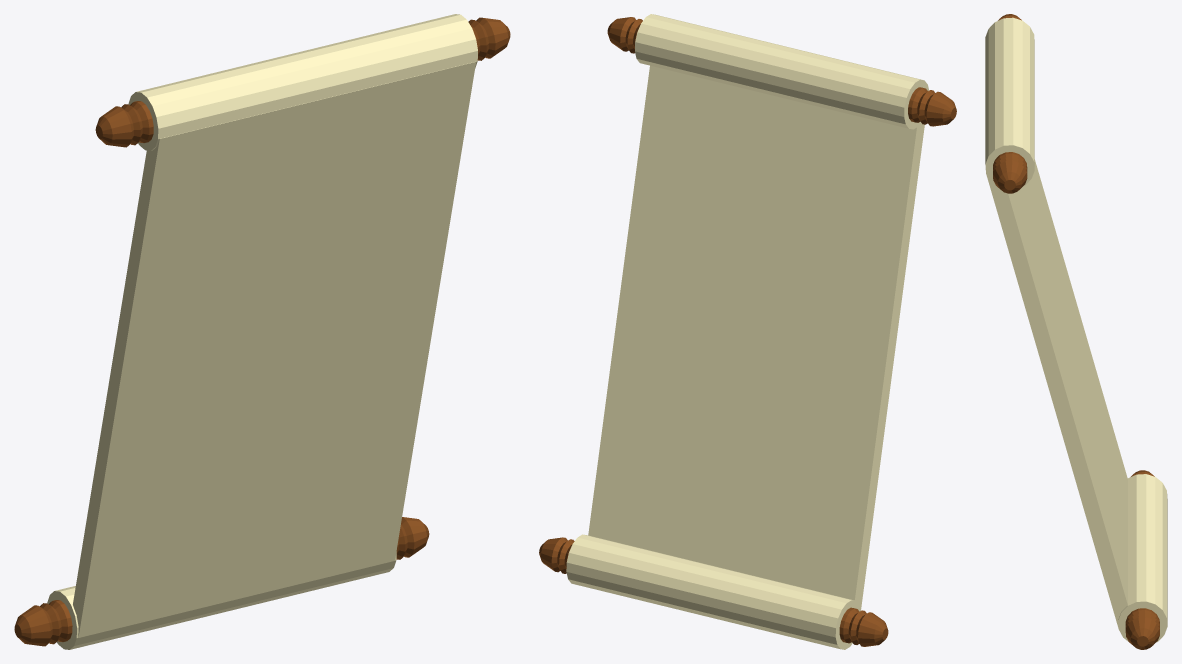
The model's file is pergaminhov2.glb.
3 views of the same model, side by side, from view 1: azimuth 30°, elevation 25°; view 2: azimuth 150°, elevation 25°; view 3: azimuth 270°, elevation 25° (orthographic). The views are drawn at different scales.
Visible parts, largest first — view 1: Brave_Kasi002; view 2: Brave_Kasi002; view 3: Brave_Kasi002.
Boxes of the visible parts, x1,y1,x2,y2 form: Brave_Kasi002: (14, 14, 510, 649); Brave_Kasi002: (539, 14, 956, 649); Brave_Kasi002: (985, 14, 1167, 649).
Size of the model in its own units: 10.34 by 14.86 by 4.9.
